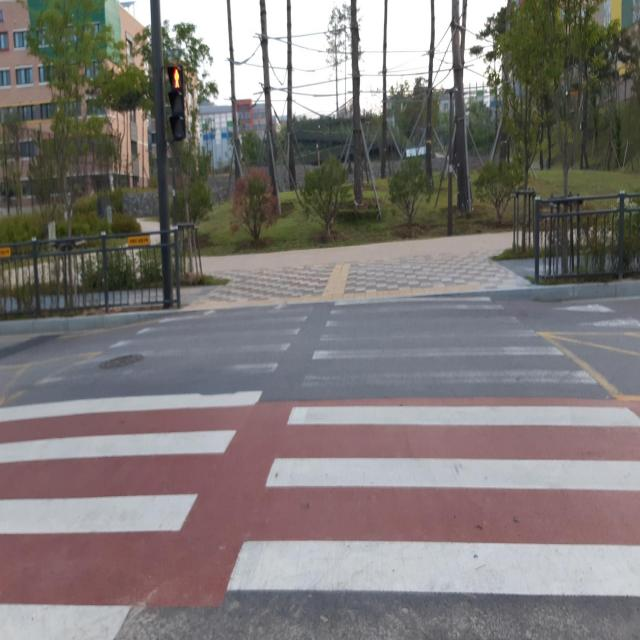빨간불: (167, 65, 186, 141)
횡단보도: (0, 303, 640, 640)
